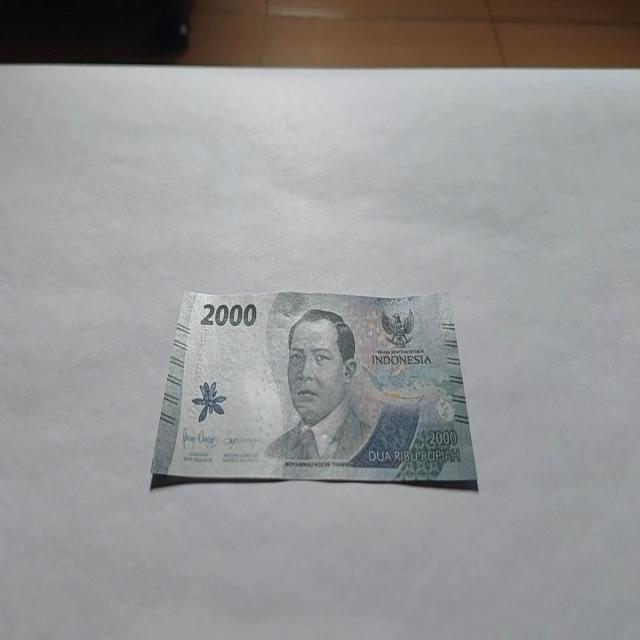dua ribu rupiah: (150, 287, 478, 490), (263, 306, 377, 465)
